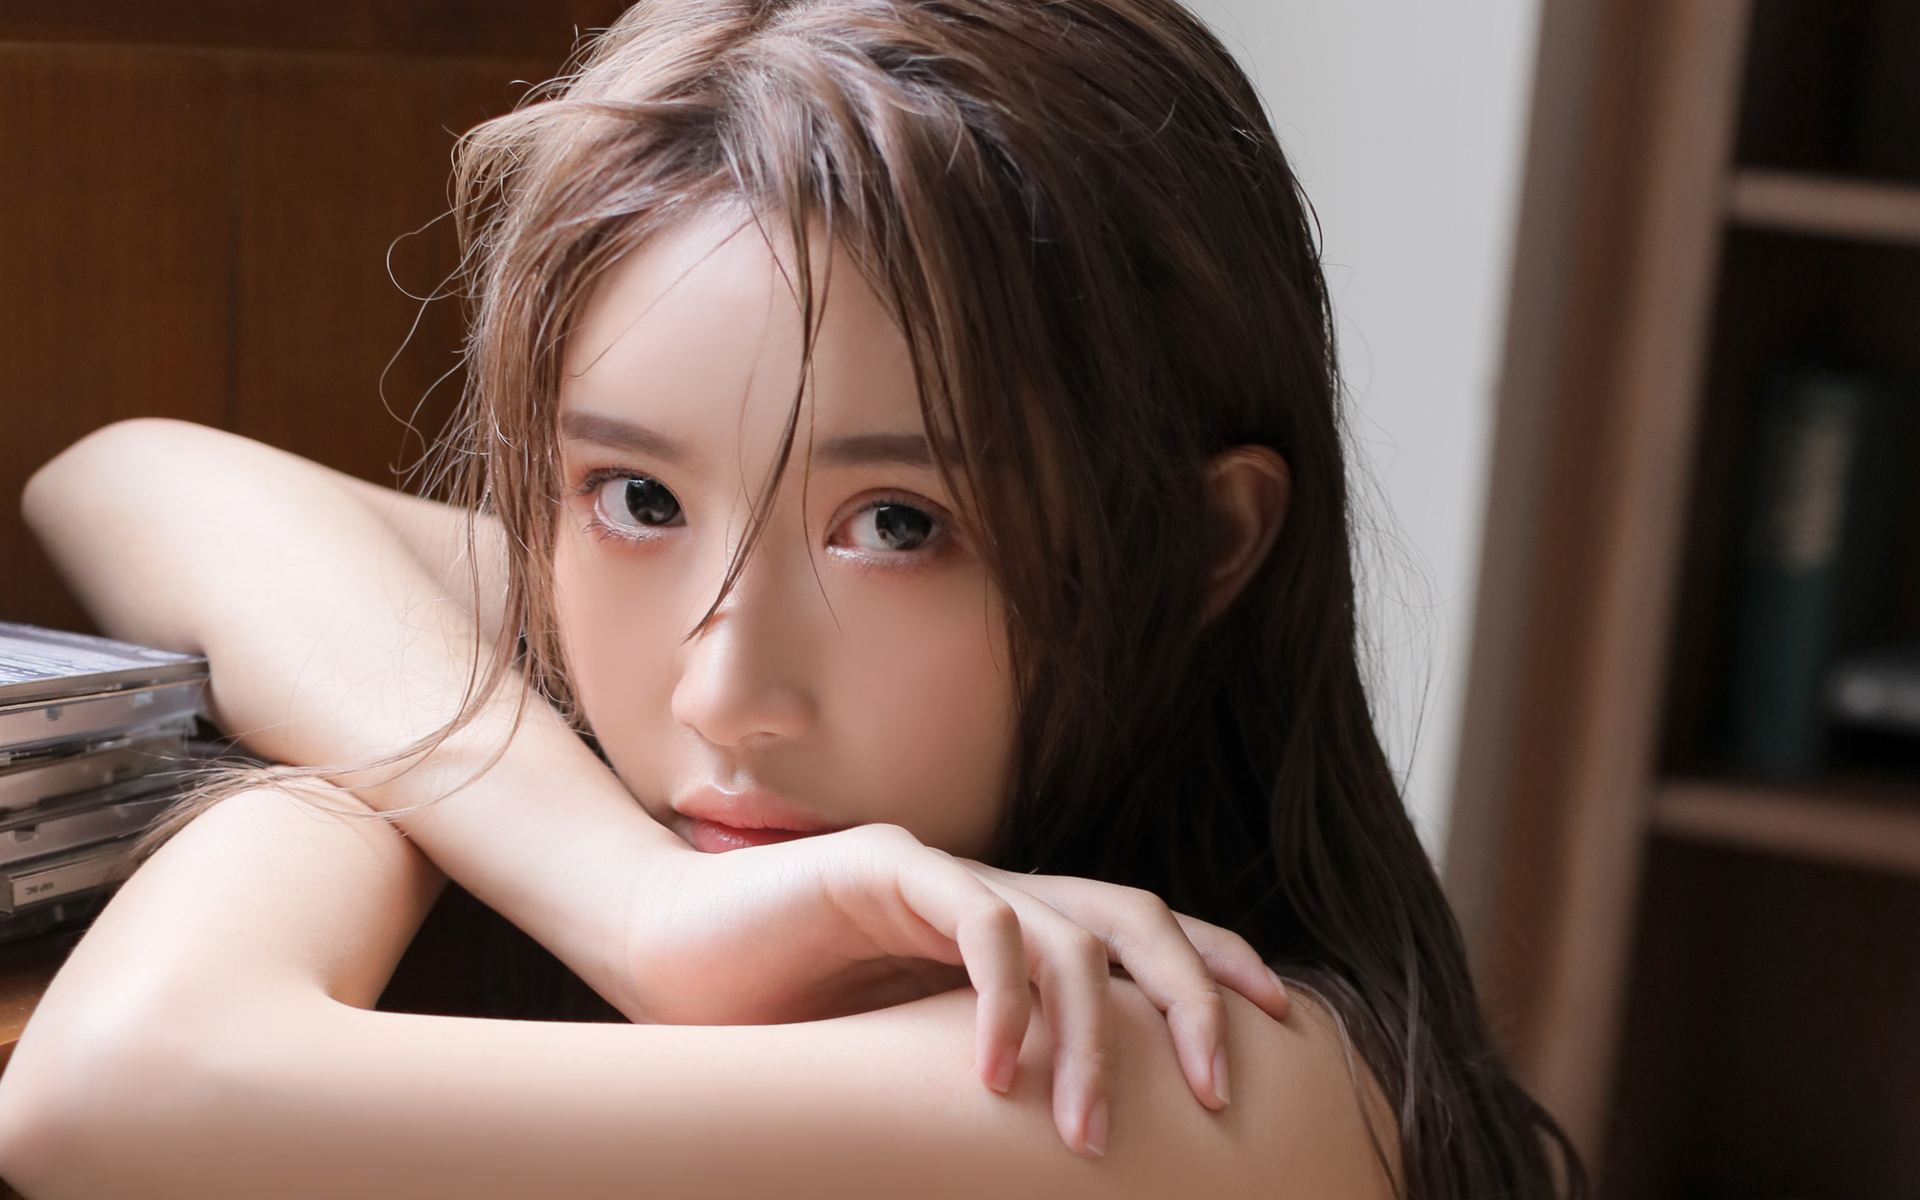person: (58, 62, 1441, 1200)
